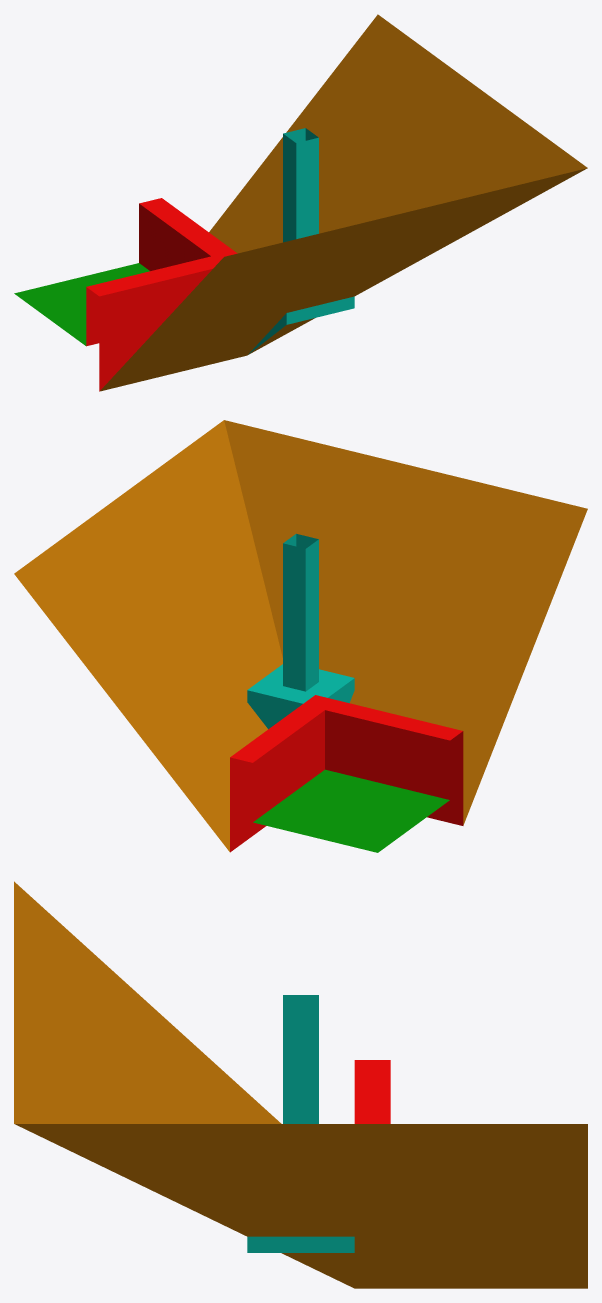
File: None_S_S_E_E_W_S_E_E_BigStrut.fbx
The picture shows the model from 3 angles, top to bottom: view 1: azimuth 30°, elevation 25°; view 2: azimuth 150°, elevation 25°; view 3: azimuth 270°, elevation 25°; orthographic projection. The views are drawn at different scales.
Parts seen in each view (by area): view 1: None_S_S_E_E_W_S_E_E_BigStrut; view 2: None_S_S_E_E_W_S_E_E_BigStrut; view 3: None_S_S_E_E_W_S_E_E_BigStrut.
Part boxes in pixels (<box>): None_S_S_E_E_W_S_E_E_BigStrut: <box>14,14,587,391</box>; None_S_S_E_E_W_S_E_E_BigStrut: <box>14,420,587,852</box>; None_S_S_E_E_W_S_E_E_BigStrut: <box>14,881,587,1288</box>.
Bounding box in the file's own units: 100 × 59.38 × 100.
